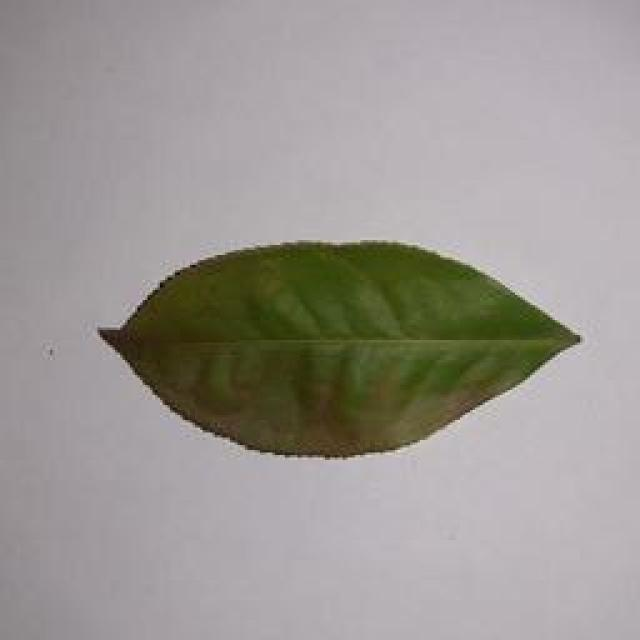Red Leaf Spot: (87, 226, 588, 456)
